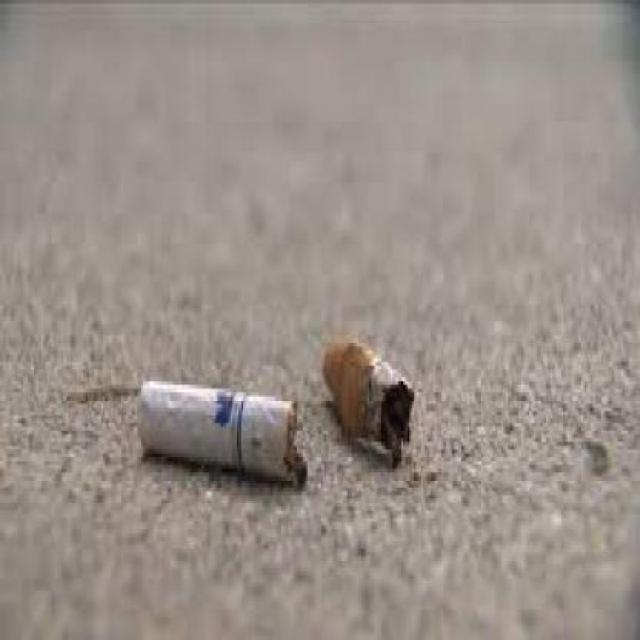cigarette: (100, 374, 312, 503), (322, 335, 436, 454)
